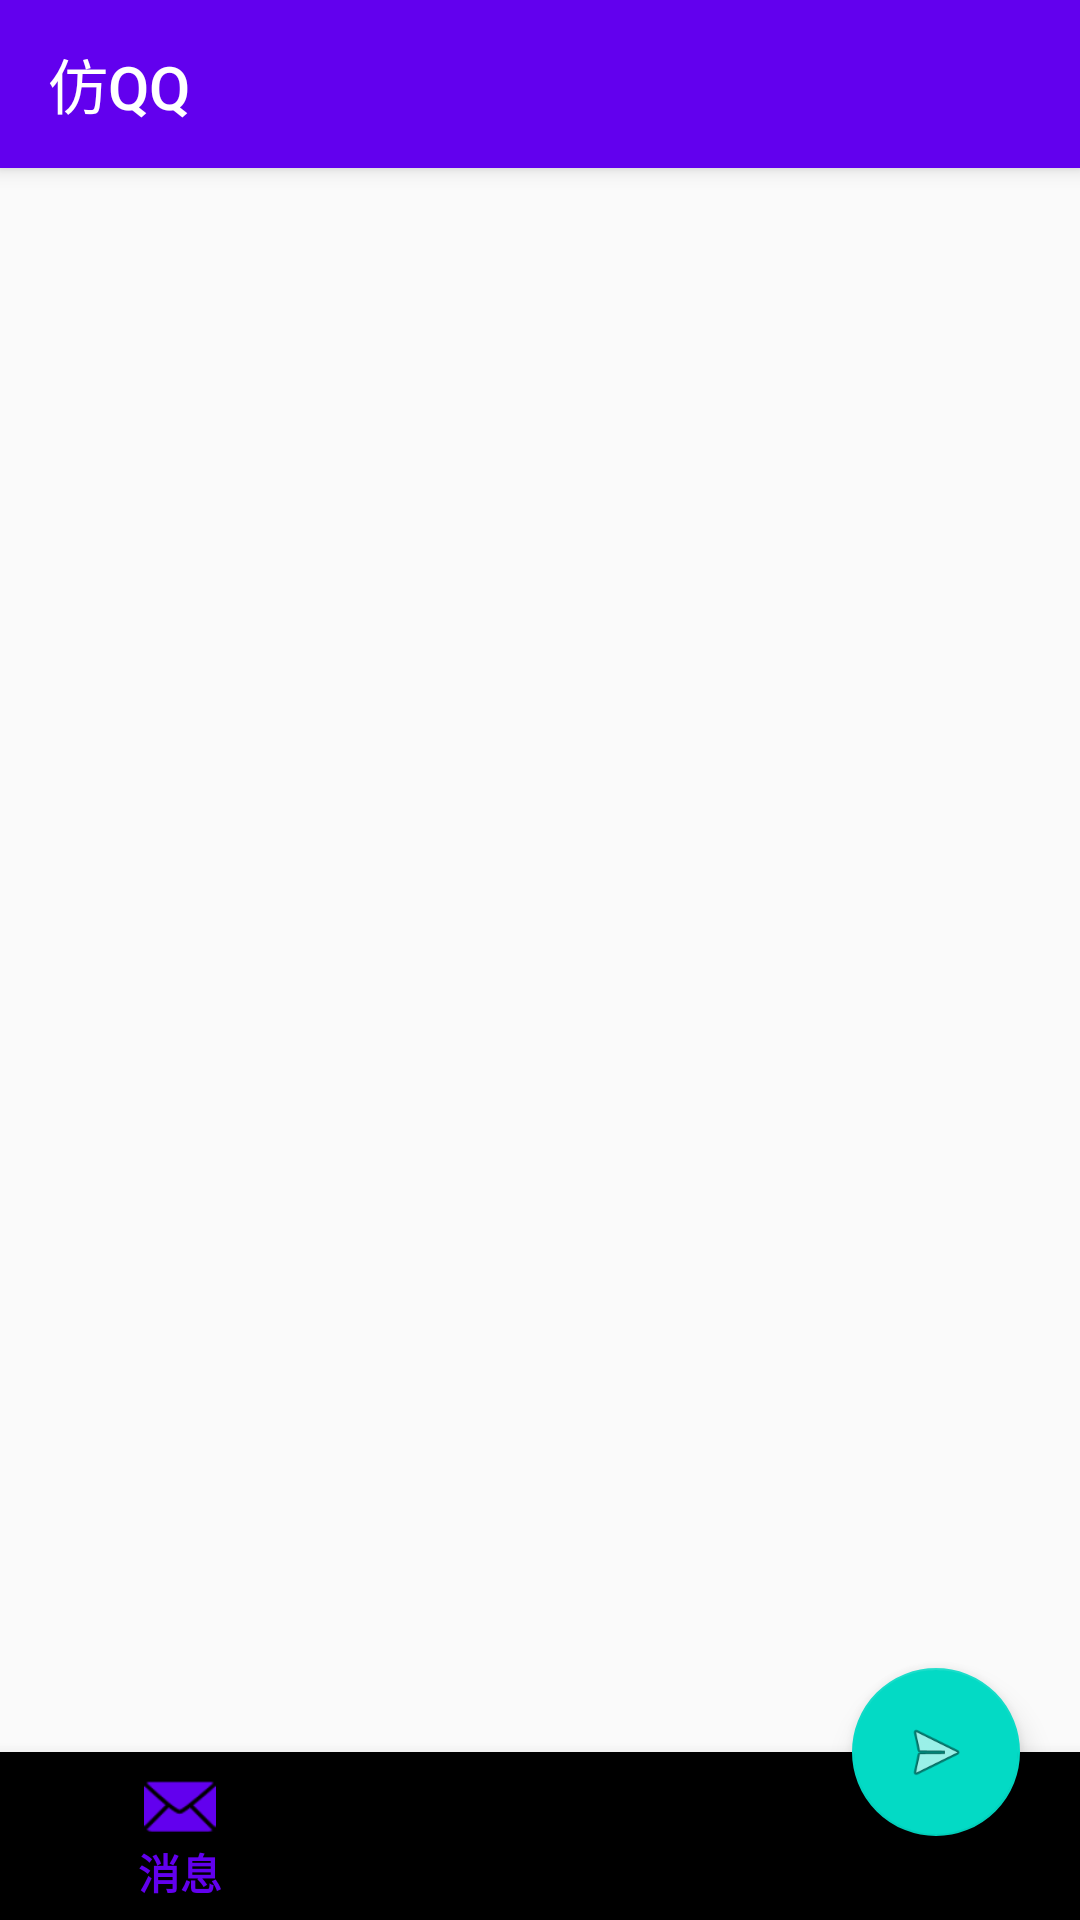

Point at icon controls on the screen. Image size 1080x1920, points as (x=x, y=y).
send: (x=936, y=1752)
